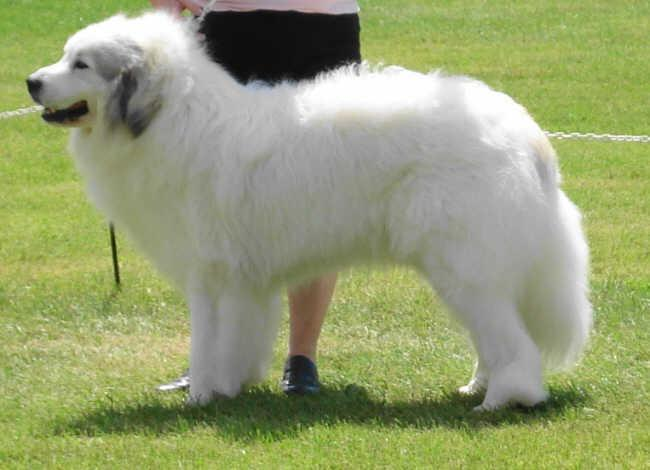Great_Pyrenees: (18, 5, 597, 420)
